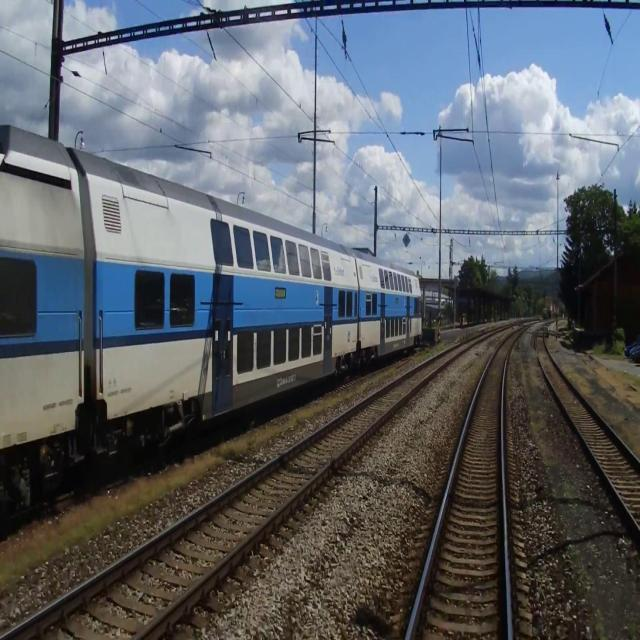rail-track: (6, 343, 467, 639), (409, 332, 517, 639), (537, 331, 640, 523)
